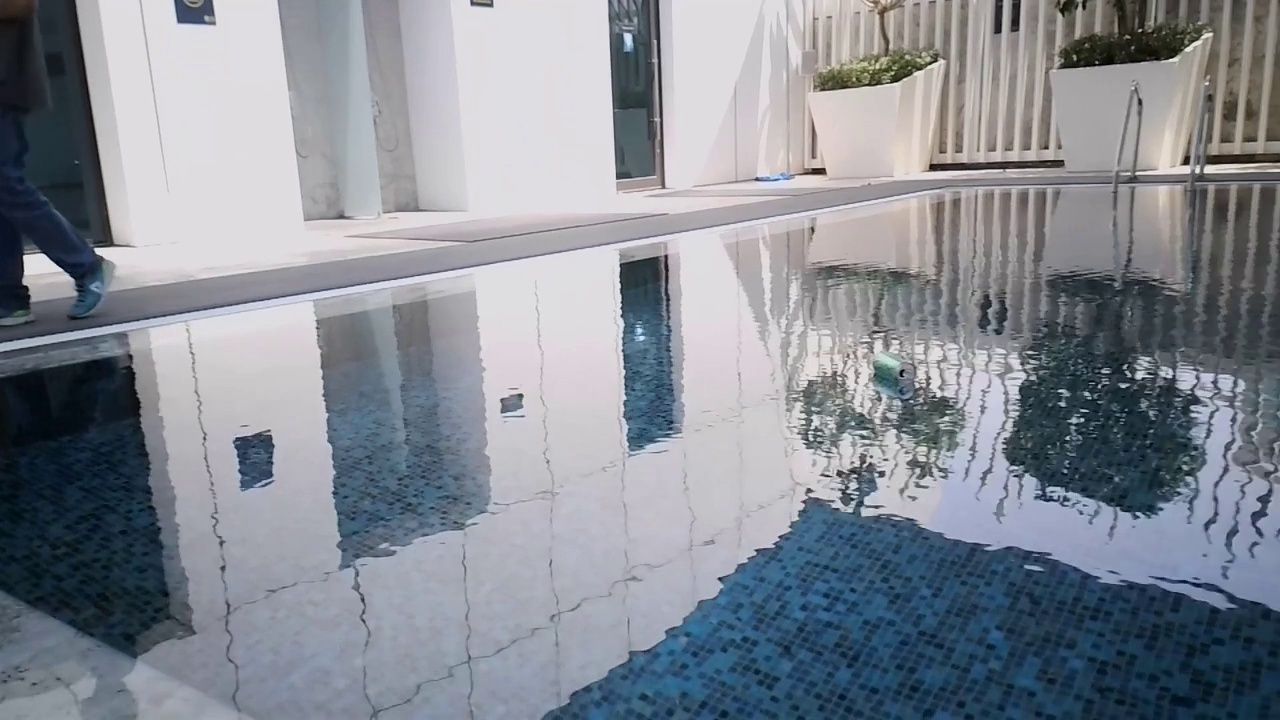debris: (865, 345, 921, 390)
